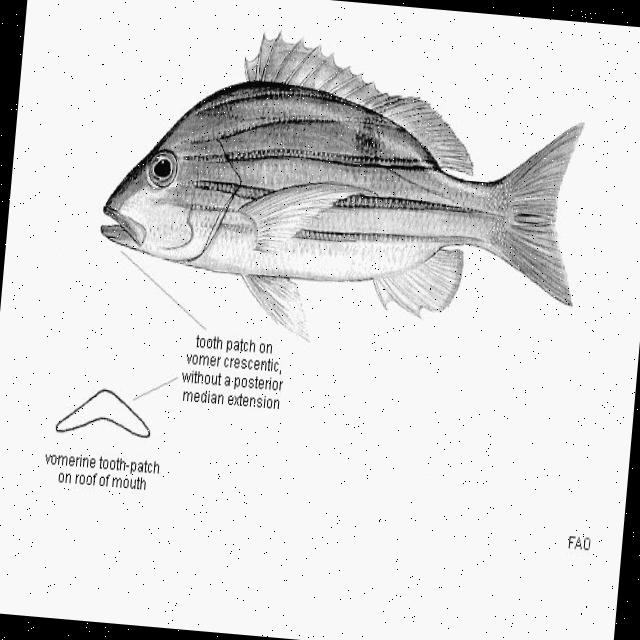ikan: (91, 15, 594, 363)
